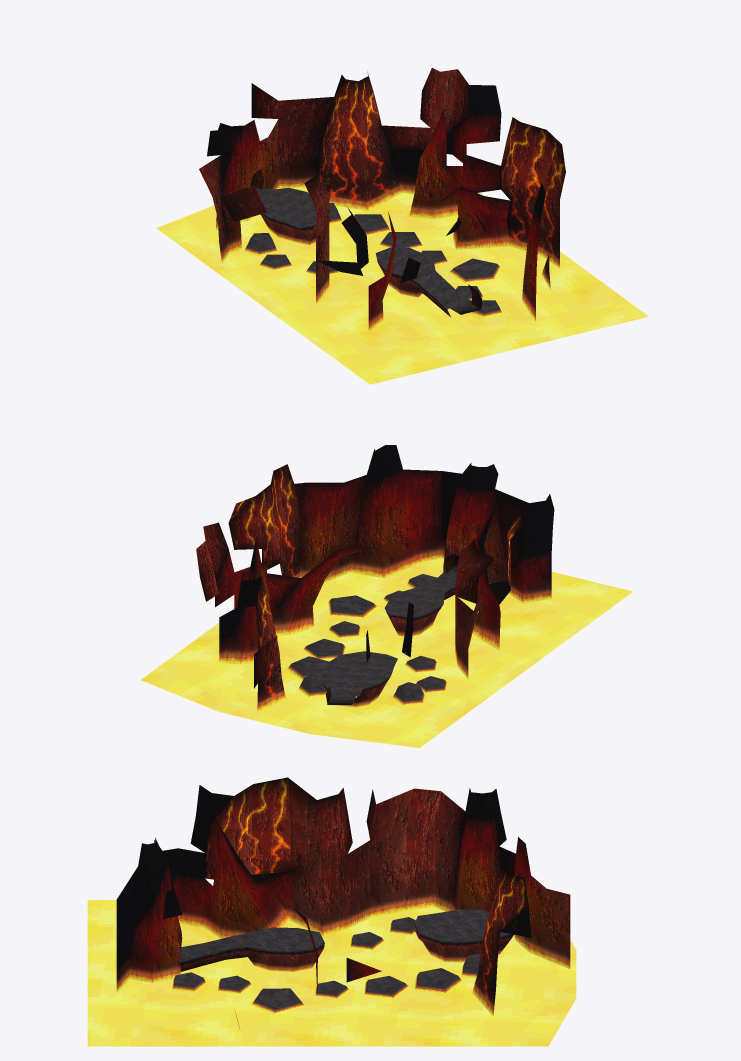
File: AlienBridge.glb
3 renders of one model, top to bottom at view 1: azimuth 30°, elevation 25°; view 2: azimuth 150°, elevation 25°; view 3: azimuth 270°, elevation 25°, orthographic. The views are drawn at different scales.
Parts seen in each view (by area): view 1: AlienBridge_17, AlienBridge_2, AlienBridge_4, AlienBridge_5, AlienBridge_3, AlienBridge_6, AlienBridge_9, AlienBridge_14, AlienBridge_10, AlienBridge_11, AlienBridge_8, AlienBridge_7 (+1 smaller); view 2: AlienBridge_17, AlienBridge_2, AlienBridge_5, AlienBridge_4, AlienBridge_6, AlienBridge_3, AlienBridge_9, AlienBridge_8, AlienBridge_7, AlienBridge_10, AlienBridge_14, AlienBridge_11 (+1 smaller); view 3: AlienBridge_17, AlienBridge_2, AlienBridge_5, AlienBridge_4, AlienBridge_6, AlienBridge_3, AlienBridge_8, AlienBridge_9, AlienBridge_7, AlienBridge_15, AlienBridge_10, AlienBridge_11 (+1 smaller).
Part boxes in pixels (x1,y1,x2,y2): AlienBridge_17: (156,186,648,384); AlienBridge_2: (199,68,545,283); AlienBridge_4: (212,119,537,274); AlienBridge_5: (218,142,536,310); AlienBridge_3: (247,185,499,314); AlienBridge_6: (216,167,550,331); AlienBridge_9: (328,94,565,198); AlienBridge_14: (317,144,559,246); AlienBridge_10: (320,122,559,222); AlienBridge_11: (313,167,559,267); AlienBridge_8: (334,72,565,233); AlienBridge_7: (244,216,502,317); AlienBridge_17: (141,558,632,747); AlienBridge_2: (196,445,554,688); AlienBridge_5: (219,512,551,657); AlienBridge_4: (215,488,552,649); AlienBridge_6: (219,536,551,707); AlienBridge_3: (291,564,457,704); AlienBridge_9: (228,484,510,633); AlienBridge_8: (228,464,523,606); AlienBridge_7: (287,579,447,706); AlienBridge_10: (258,511,510,651); AlienBridge_14: (258,535,299,687); AlienBridge_11: (257,559,299,712); AlienBridge_17: (87,900,576,1046); AlienBridge_2: (116,778,530,923); AlienBridge_5: (116,855,570,992); AlienBridge_4: (116,827,570,982); AlienBridge_6: (116,882,570,1034); AlienBridge_3: (175,909,509,1007); AlienBridge_8: (209,777,528,906); AlienBridge_9: (205,819,531,937); AlienBridge_7: (172,920,477,1014); AlienBridge_15: (179,933,513,971); AlienBridge_10: (205,846,500,960); AlienBridge_11: (472,970,495,1015).
Bounding box in the file's own units: 360 × 115 × 540.
18 materials, 18 textured.
